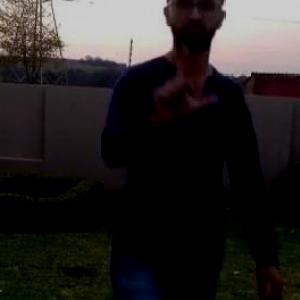land_hand: (141, 34, 222, 127)
